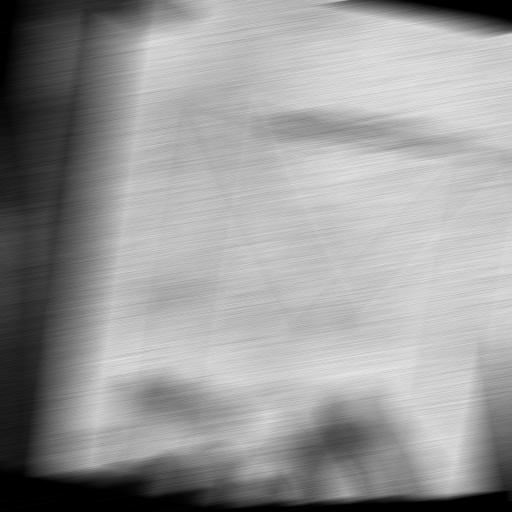envelop: (138, 88, 506, 512)
